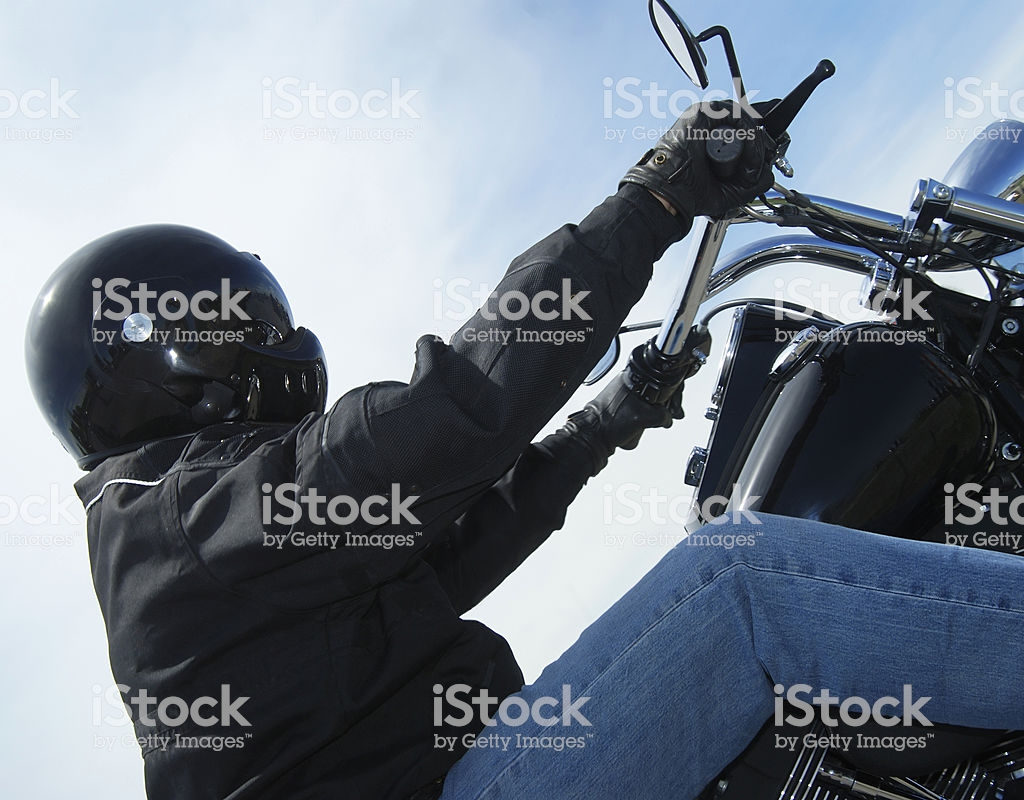helmet: (22, 242, 328, 434)
